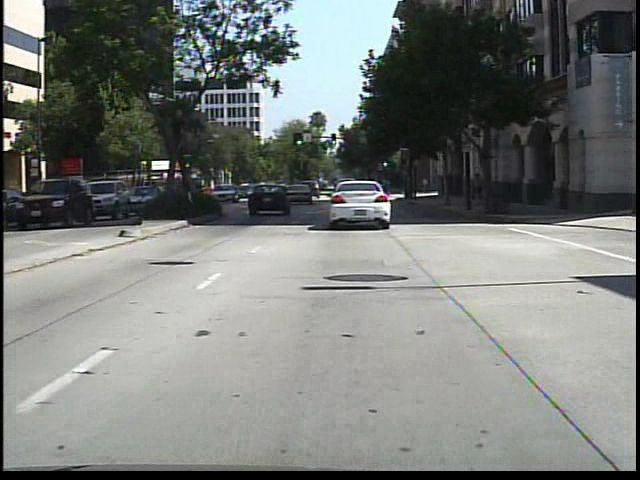person: (469, 168, 487, 210)
